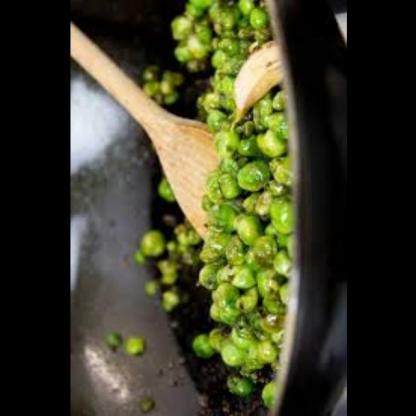peas: (134, 0, 297, 416), (106, 330, 143, 361)
